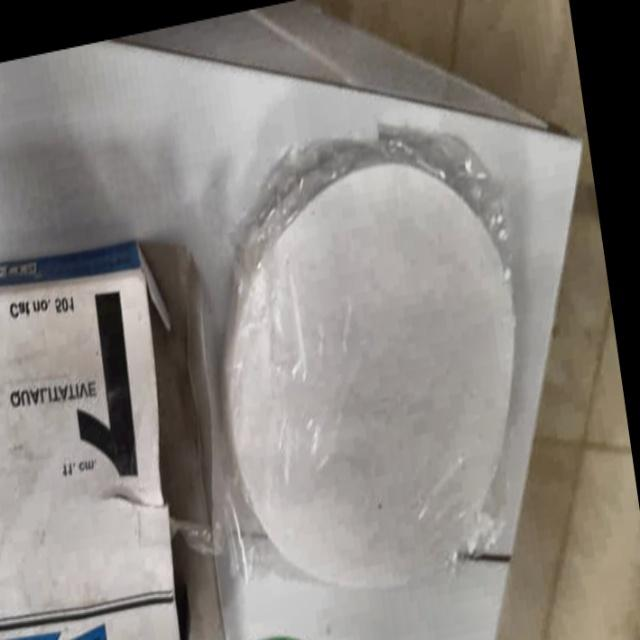Filter paper: (195, 124, 550, 624)
